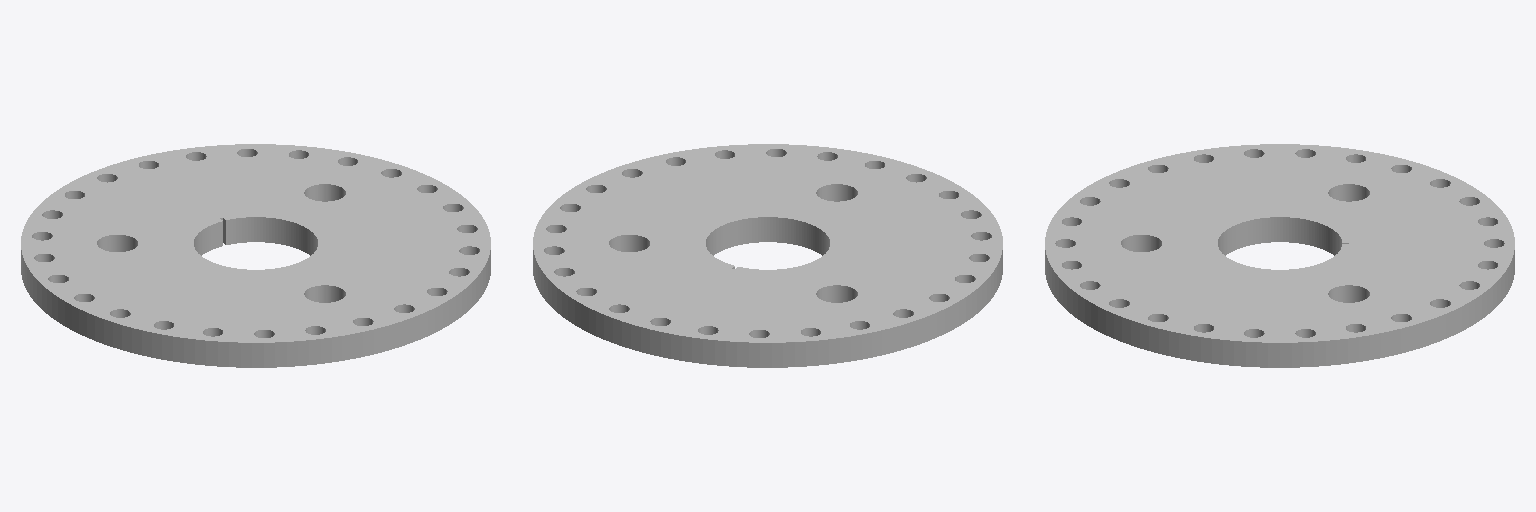
File: back_contact.obj
3 renders of one model, left to right at view 1: azimuth 30°, elevation 25°; view 2: azimuth 150°, elevation 25°; view 3: azimuth 270°, elevation 25°, orthographic.
Parts seen in each view (by area): view 1: contact_Cylinder; view 2: contact_Cylinder; view 3: contact_Cylinder.
Part boxes in pixels (x1,y1,x2,y2): contact_Cylinder: (21,144,490,367); contact_Cylinder: (533,144,1002,367); contact_Cylinder: (1045,144,1514,367).
Bounding box in the file's own units: 3.4 × 0.2 × 3.4.